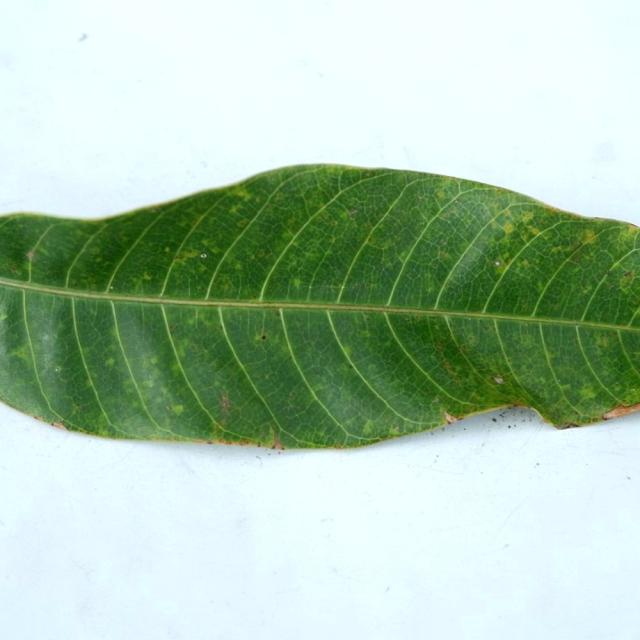Mango: (0, 165, 639, 447)
Powdery_Mildew: (206, 268, 239, 294), (615, 266, 639, 292), (441, 356, 463, 380), (207, 421, 228, 442), (174, 248, 207, 261), (166, 401, 190, 416), (9, 345, 30, 361), (361, 419, 378, 436), (580, 229, 597, 244), (219, 392, 230, 415), (235, 190, 253, 203), (579, 388, 597, 400), (227, 204, 243, 217), (502, 221, 516, 234), (174, 345, 186, 360), (520, 212, 535, 224), (568, 240, 583, 252), (232, 260, 245, 273), (122, 378, 136, 390), (169, 363, 181, 377), (72, 403, 84, 415), (338, 209, 350, 220), (389, 424, 400, 435), (437, 251, 449, 261), (141, 379, 154, 388), (311, 384, 324, 393), (104, 357, 115, 367), (292, 277, 302, 288), (288, 390, 299, 400), (196, 263, 208, 272), (26, 250, 35, 262), (559, 383, 572, 391), (435, 190, 445, 200), (10, 263, 20, 273), (141, 272, 152, 281), (342, 345, 351, 356), (492, 376, 504, 384), (149, 356, 159, 365), (0, 312, 9, 322), (210, 247, 221, 255), (367, 364, 378, 372), (365, 236, 376, 244), (348, 209, 358, 217), (89, 247, 100, 254), (607, 282, 618, 289), (212, 380, 221, 388), (237, 220, 247, 227), (623, 270, 633, 277), (432, 396, 440, 404), (257, 250, 266, 257), (163, 246, 171, 253), (572, 257, 581, 263), (275, 309, 281, 317), (364, 171, 371, 177), (604, 269, 611, 275), (260, 334, 266, 340), (166, 405, 171, 412), (454, 199, 460, 204), (499, 413, 505, 418), (417, 195, 423, 200), (347, 364, 353, 369), (271, 444, 277, 449), (495, 261, 500, 266), (441, 426, 446, 431), (339, 285, 345, 289), (207, 440, 213, 444), (492, 418, 497, 422), (252, 294, 257, 298), (521, 418, 526, 422), (55, 368, 59, 372), (513, 424, 517, 428), (277, 450, 281, 454), (558, 379, 562, 383), (574, 322, 579, 325), (507, 425, 511, 428), (109, 286, 113, 289), (159, 293, 163, 296)
